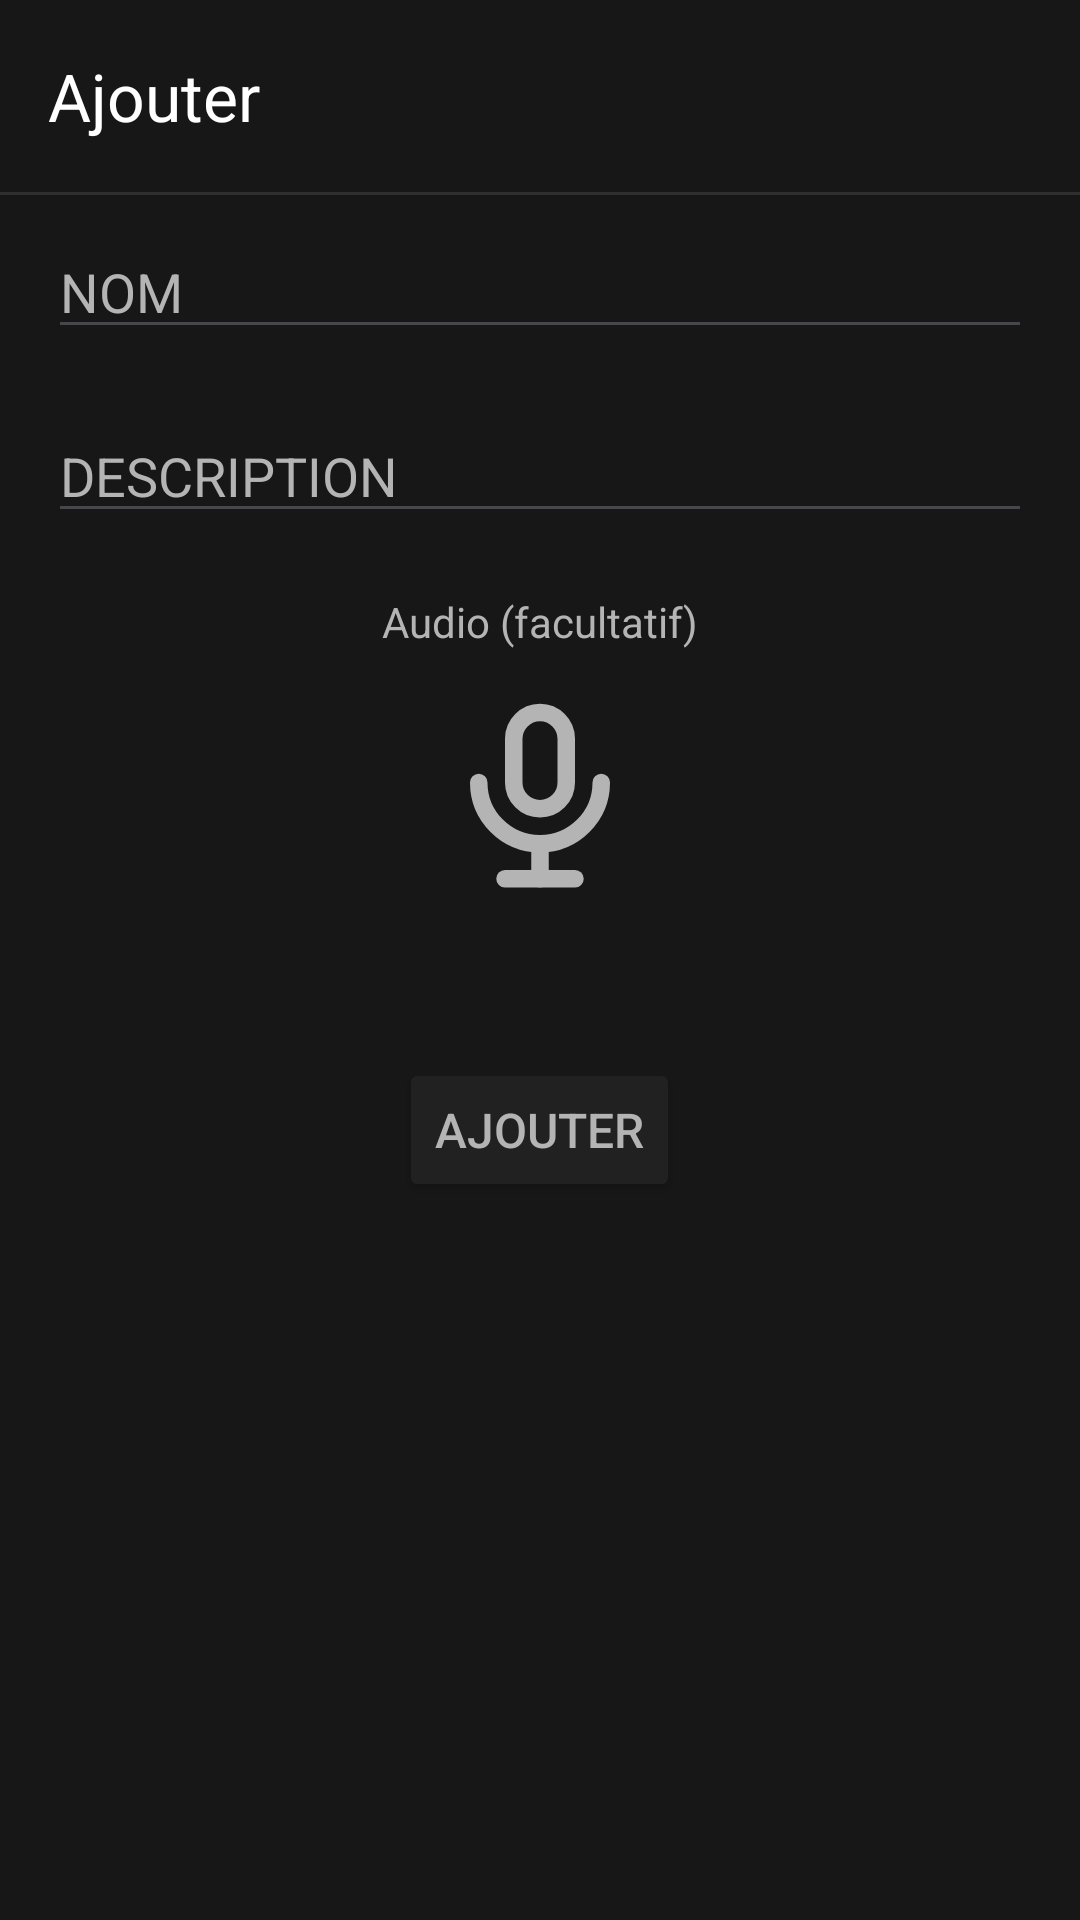

Icons on this 1080w x 1920h Android screen, each with the point to tap as (x,y):
microphone: (540,795)
